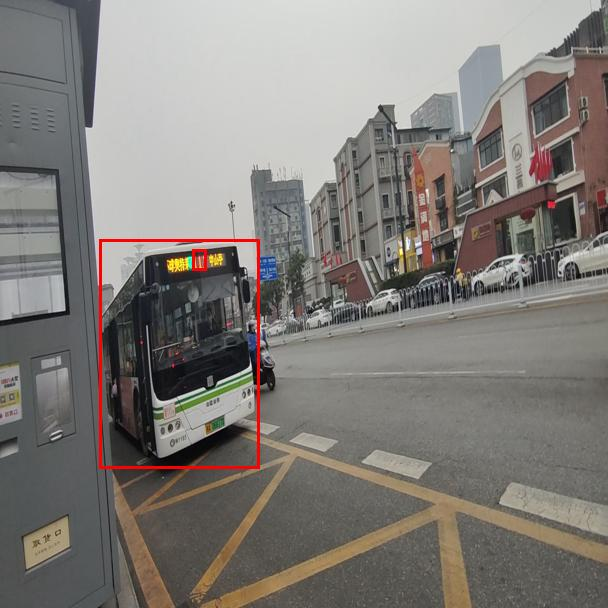bus: (99, 239, 259, 468)
screen: (192, 249, 206, 270)
